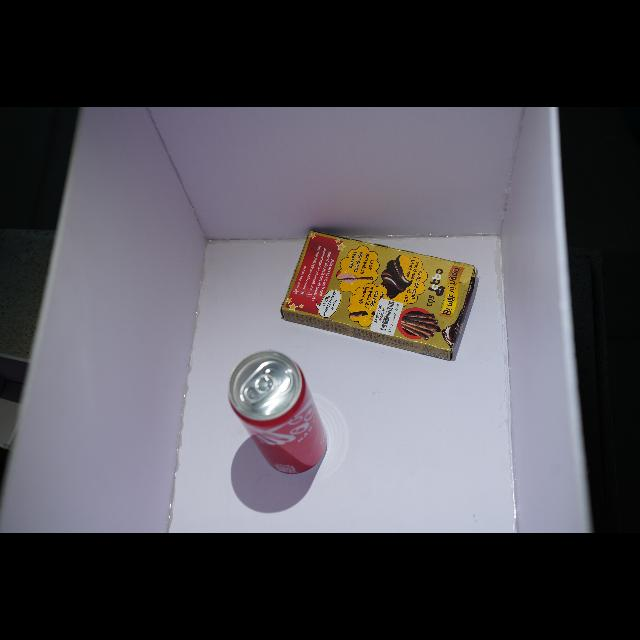banh_toppo_socola: (281, 232, 476, 360)
coca_cola: (229, 351, 328, 474)
